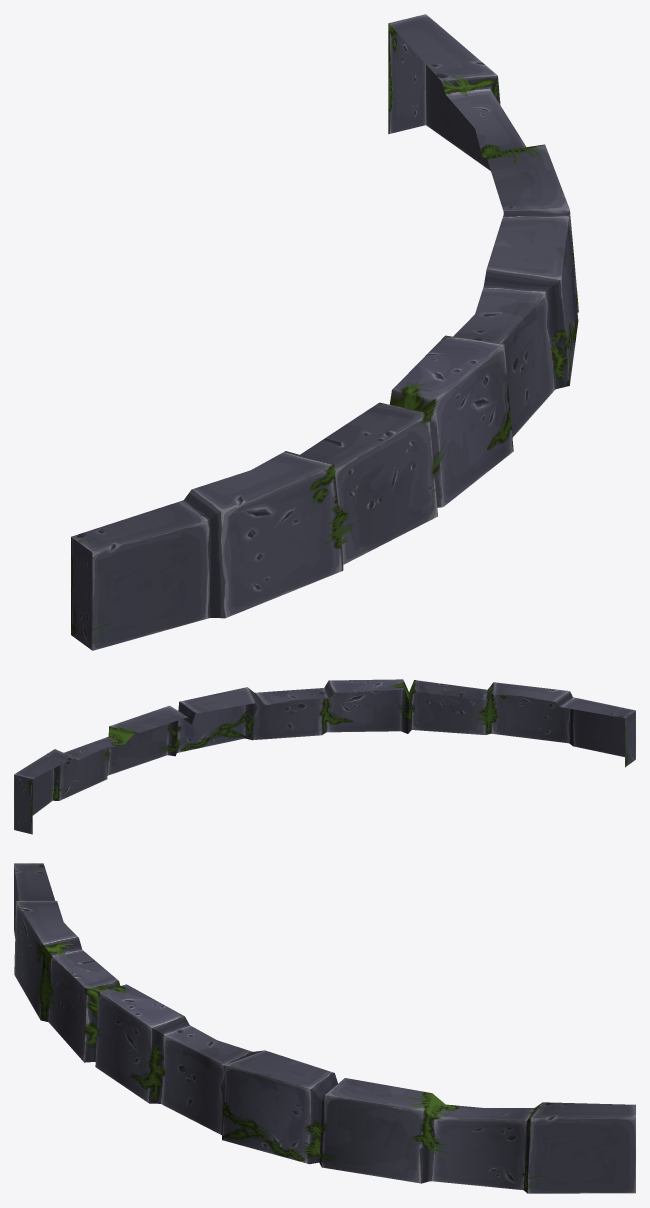
Rendered from MOD_WallTrim_01_O_convex.fbx.
3 views of the same model, one above another, from view 1: azimuth 30°, elevation 25°; view 2: azimuth 150°, elevation 25°; view 3: azimuth 270°, elevation 25° (orthographic). The views are drawn at different scales.
Parts seen in each view (by area): view 1: MOD_WallTrim_01_O_convex; view 2: MOD_WallTrim_01_O_convex; view 3: MOD_WallTrim_01_O_convex.
Boxes of the visible parts, x1,y1,x2,y2 form: MOD_WallTrim_01_O_convex: (71, 14, 578, 650); MOD_WallTrim_01_O_convex: (14, 679, 635, 834); MOD_WallTrim_01_O_convex: (14, 863, 635, 1193).
Size of what is drawn, in the model's own units: 421 by 56.52 by 420.
